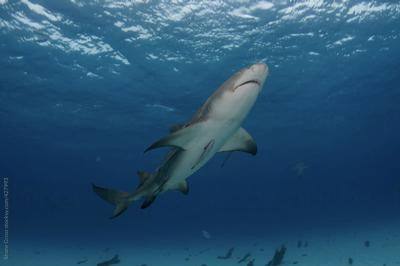Shark -Selachimorpha-: (90, 62, 270, 218)
